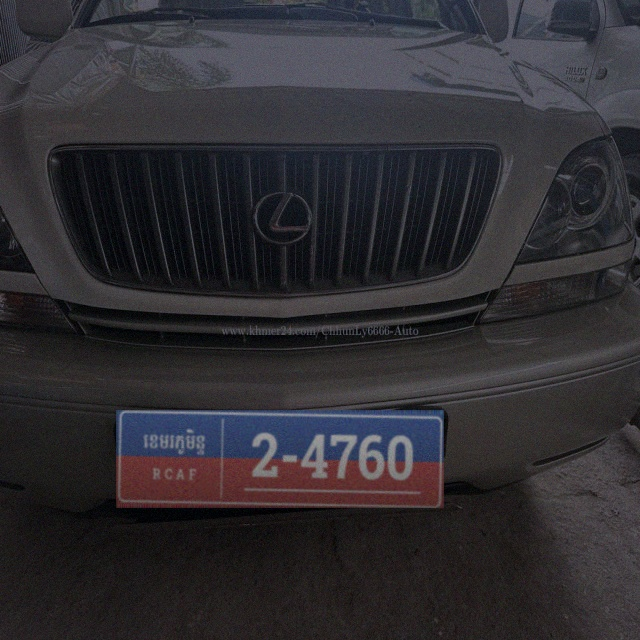Plate Number: (116, 411, 445, 508)
